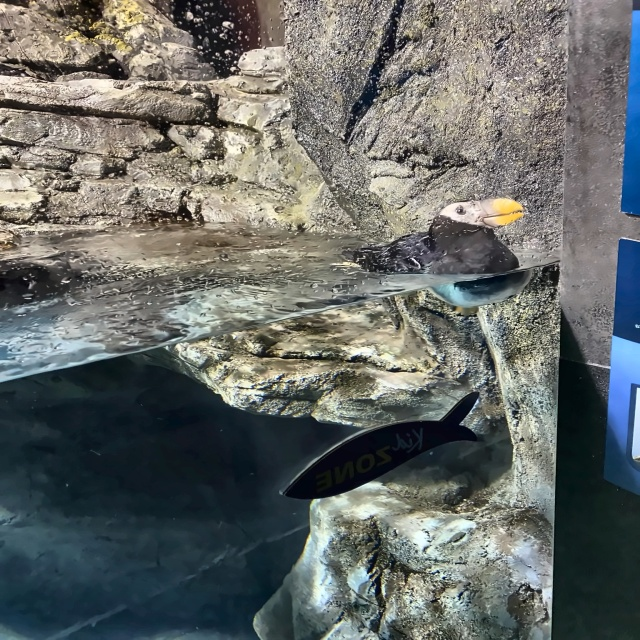puffin: (343, 196, 525, 307)
